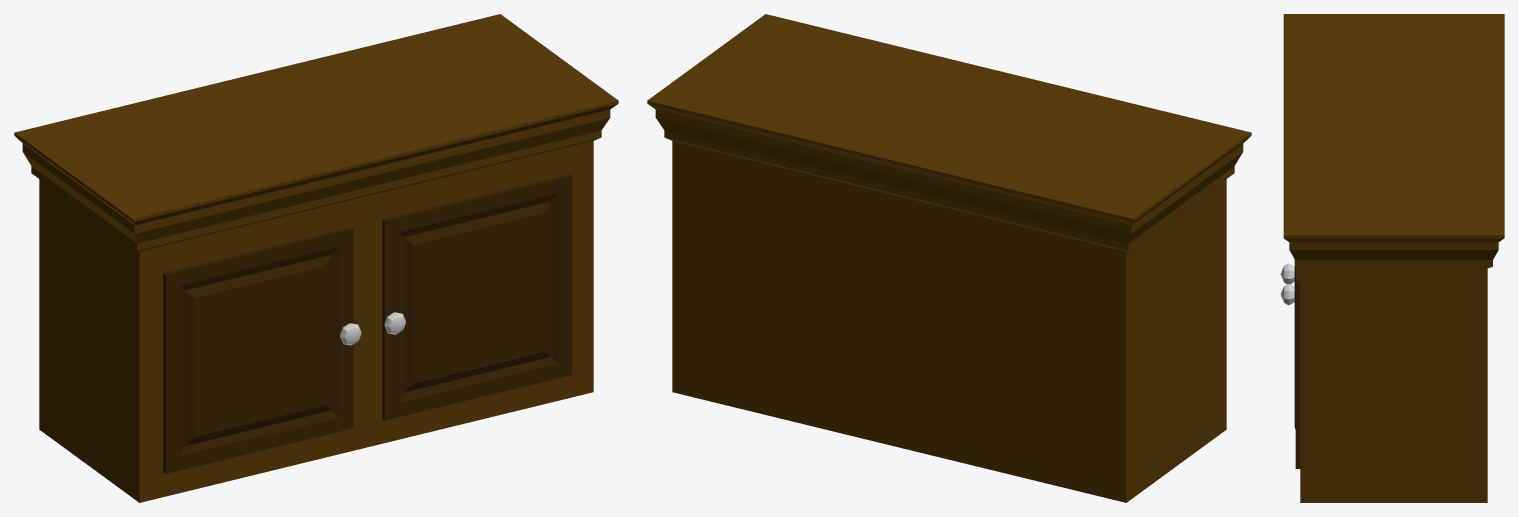
Rendered from cabinet.fbx.
3 views of the same model, side by side, from view 1: azimuth 30°, elevation 25°; view 2: azimuth 150°, elevation 25°; view 3: azimuth 270°, elevation 25° (orthographic). The views are drawn at different scales.
Visible parts, largest first — view 1: cabinet, door (×2); view 2: cabinet; view 3: cabinet, door.
Part boxes in pixels (x1,y1,x2,y2): cabinet: (14, 14, 618, 502); door (×2): (163, 174, 572, 473); cabinet: (647, 14, 1251, 502); cabinet: (1283, 14, 1504, 502); door: (1294, 260, 1300, 468).
Bounding box in the file's own units: 2.04 × 1.18 × 0.8731.
